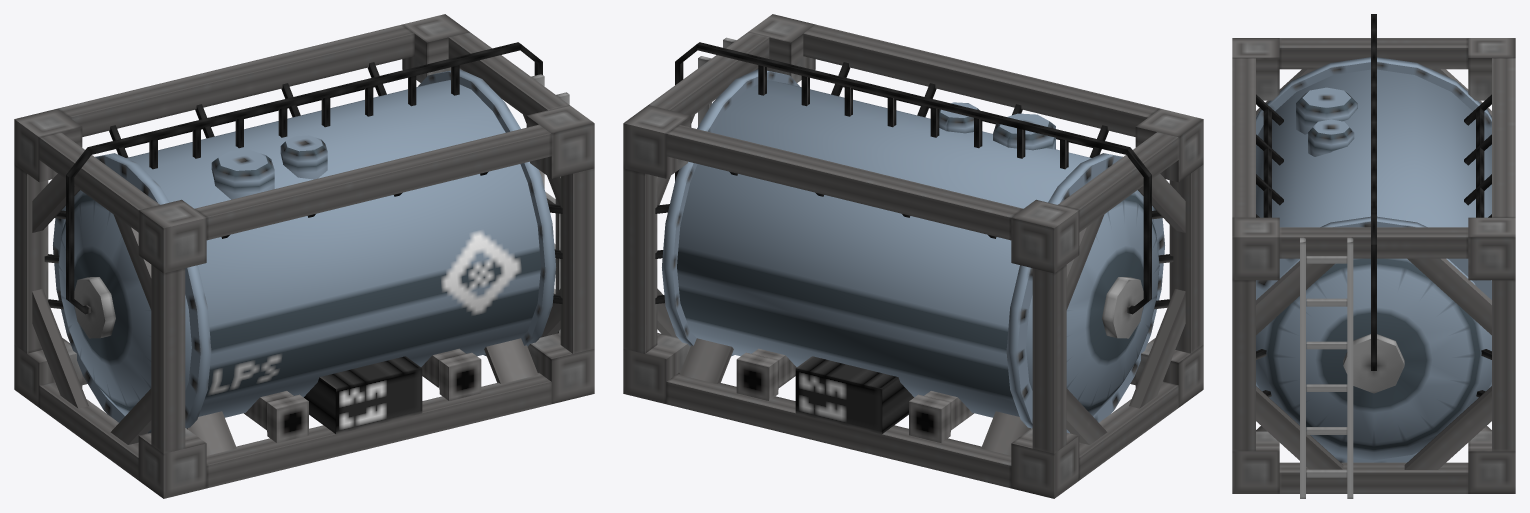
Rendered from machine_fluidtank_fluid_55.obj.
3 views of the same model, side by side, from view 1: azimuth 30°, elevation 25°; view 2: azimuth 150°, elevation 25°; view 3: azimuth 270°, elevation 25° (orthographic). The views are drawn at different scales.
Visible parts, largest first — view 1: Frame, Tank; view 2: Frame, Tank; view 3: Frame, Tank.
Boxes of the visible parts, box(x1,y1,x2,y2) form: Frame: box(14, 14, 594, 498); Tank: box(53, 69, 555, 433); Frame: box(623, 14, 1203, 498); Tank: box(662, 69, 1164, 433); Frame: box(1232, 14, 1515, 498); Tank: box(1256, 57, 1491, 462).
Size of the model in its own units: 5.5 by 3.28 by 3.
